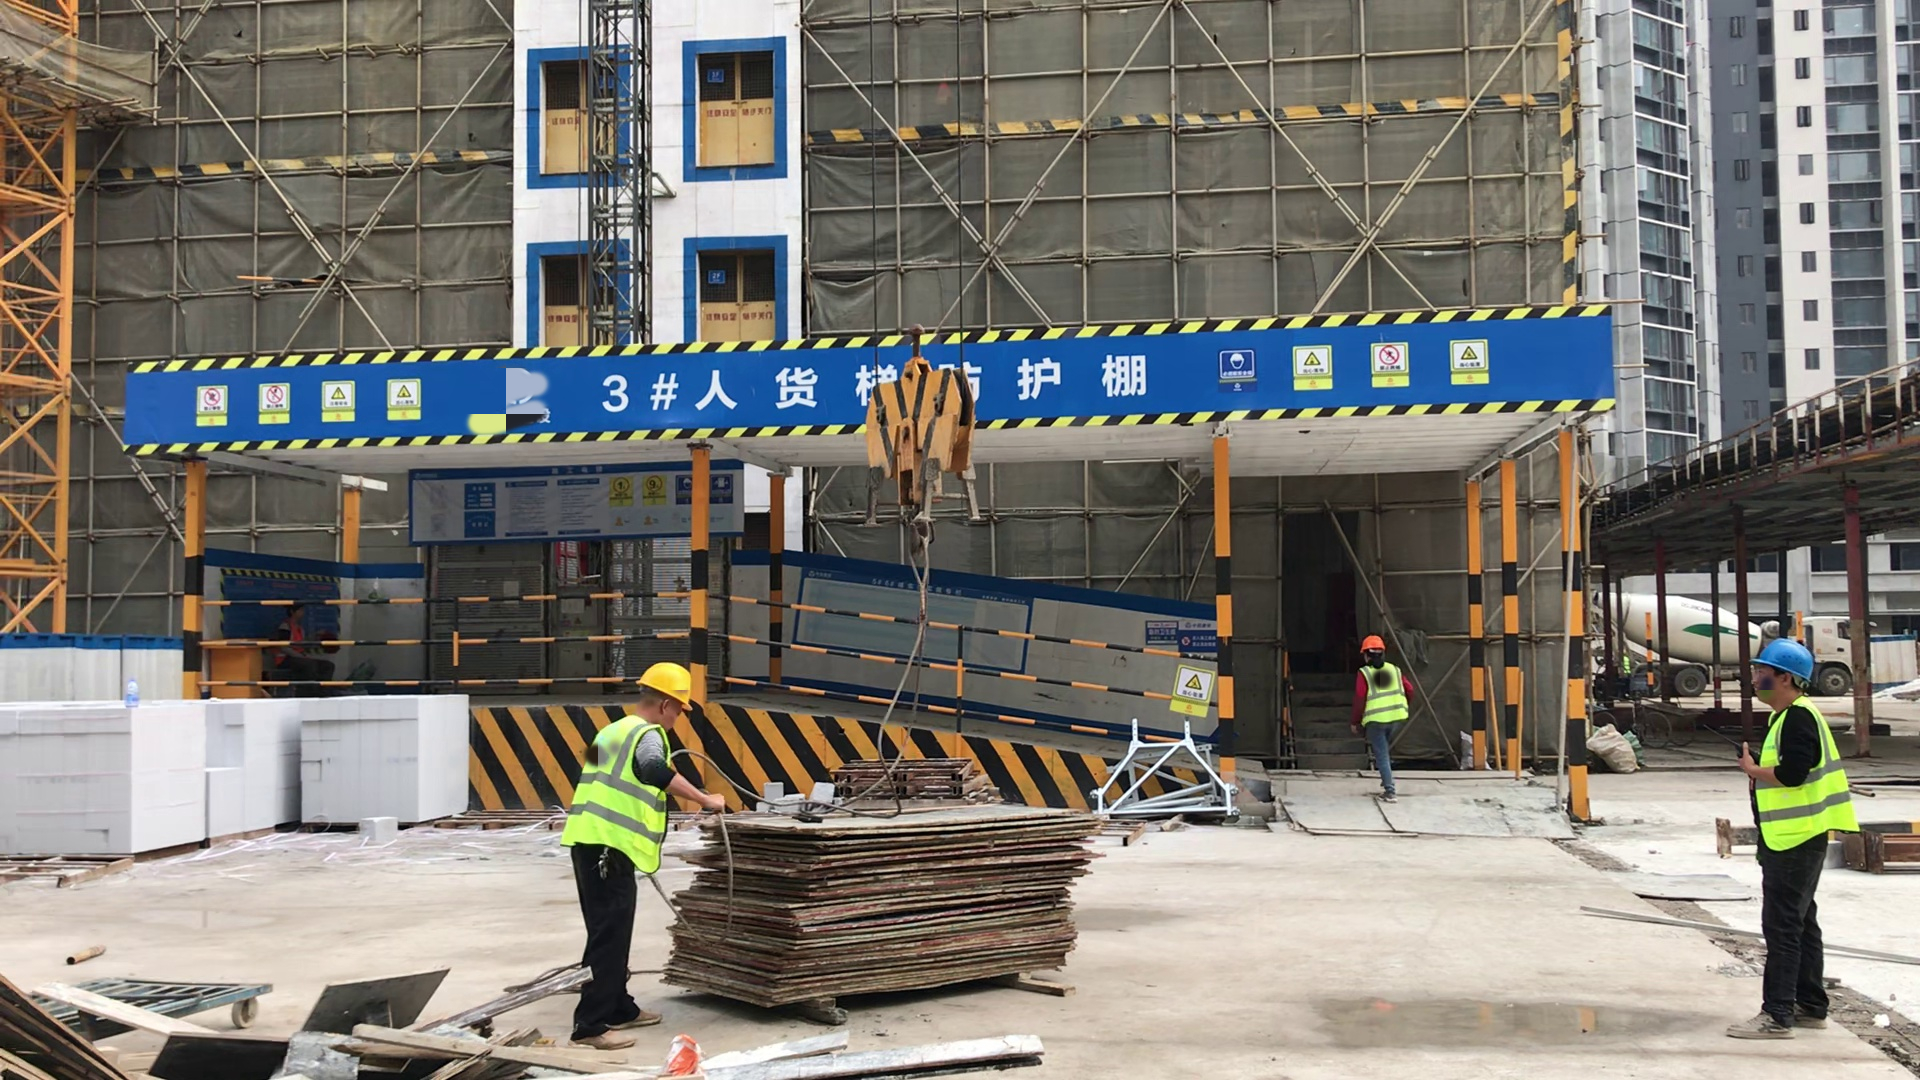board: (662, 809, 1103, 1010)
brick: (3, 695, 470, 854)
helmet: (636, 662, 700, 714), (1752, 637, 1812, 680), (1359, 633, 1388, 652)
hook: (860, 354, 974, 544)
person: (564, 660, 729, 1041), (1736, 635, 1849, 1041), (1351, 632, 1421, 806)
slogan: (1206, 336, 1505, 395), (188, 373, 428, 421), (608, 468, 739, 531), (1143, 619, 1220, 659), (1171, 665, 1212, 719)
vest: (1753, 695, 1859, 851), (563, 713, 667, 871), (1359, 663, 1408, 730)
